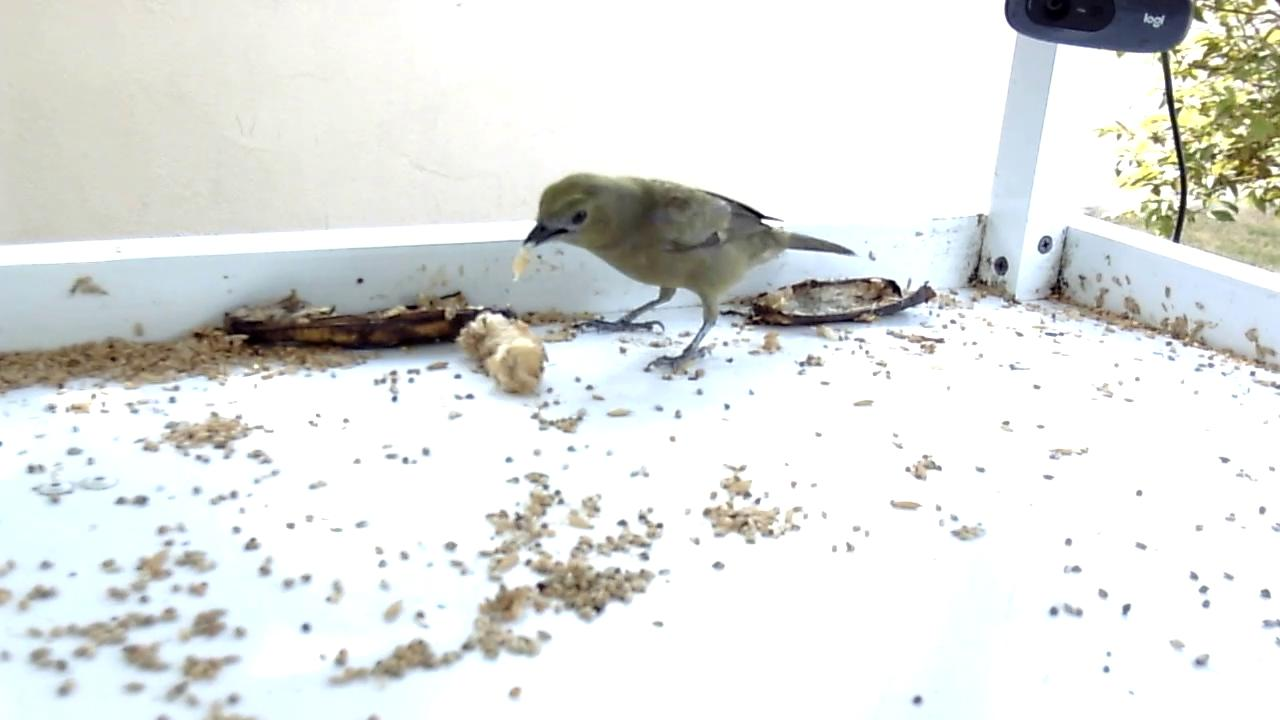sanhaco_do_coqueiro: (523, 173, 858, 375)
